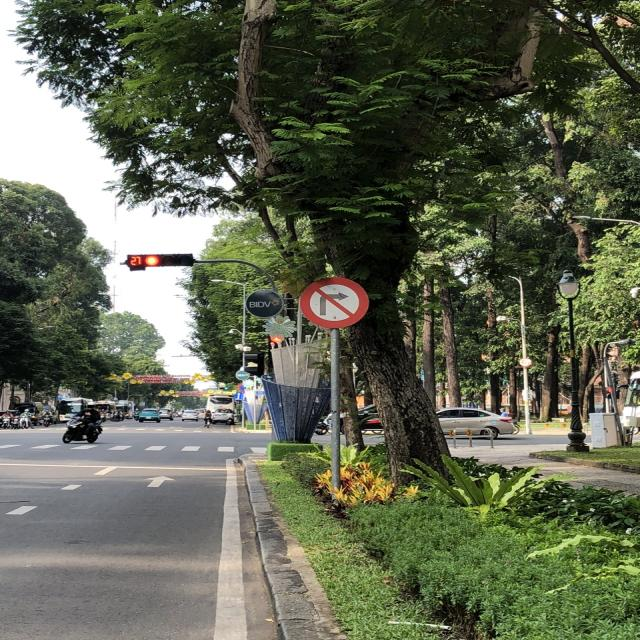Bien bao cam re phai: (296, 269, 374, 332)
